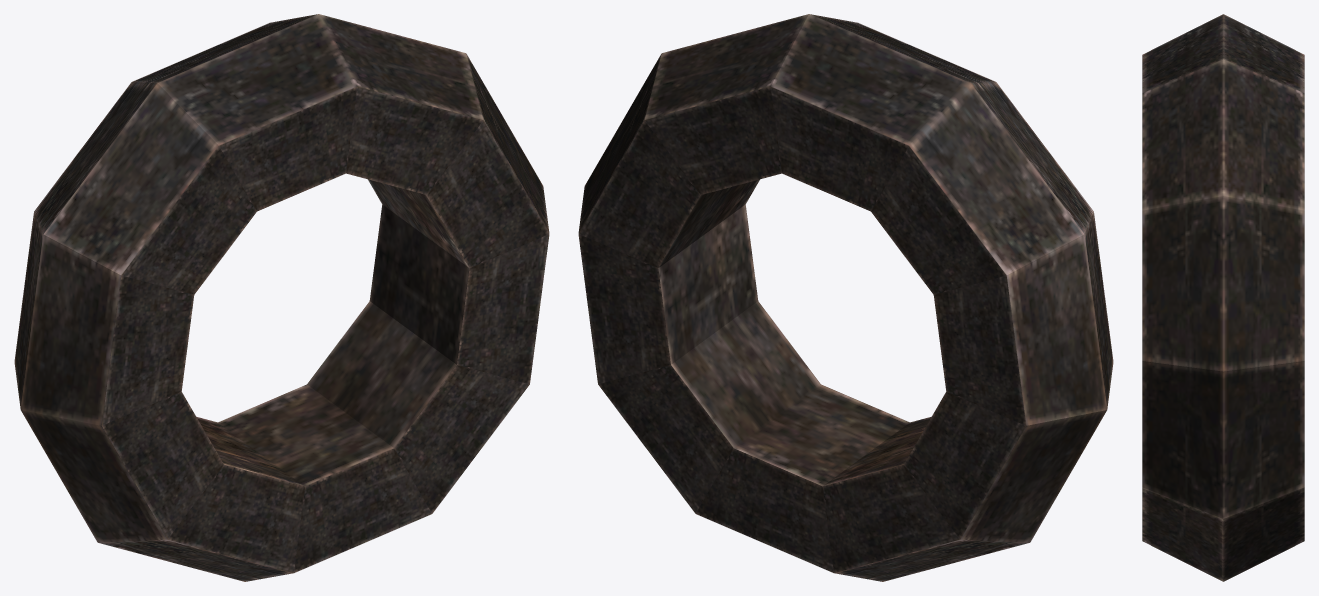
The model's file is environment_common_tielian_002_a.FBX.
The picture shows the model from 3 angles, left to right: view 1: azimuth 30°, elevation 25°; view 2: azimuth 150°, elevation 25°; view 3: azimuth 270°, elevation 25°; orthographic projection. The views are drawn at different scales.
Parts seen in each view (by area): view 1: environment_common_tielian_002_a; view 2: environment_common_tielian_002_a; view 3: environment_common_tielian_002_a.
Boxes of the visible parts, left/top/right/bottom form: environment_common_tielian_002_a: left=14, top=14, right=549, bottom=581; environment_common_tielian_002_a: left=578, top=14, right=1113, bottom=581; environment_common_tielian_002_a: left=1142, top=14, right=1304, bottom=581.
Bounding box in the file's own units: 207 × 209 × 60.
1 material, 1 textured.
